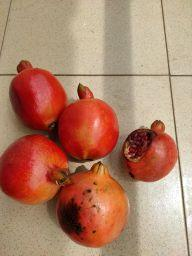pomegranate: (54, 161, 130, 247), (0, 133, 69, 204), (60, 83, 120, 160), (7, 60, 68, 131), (121, 119, 178, 182)
